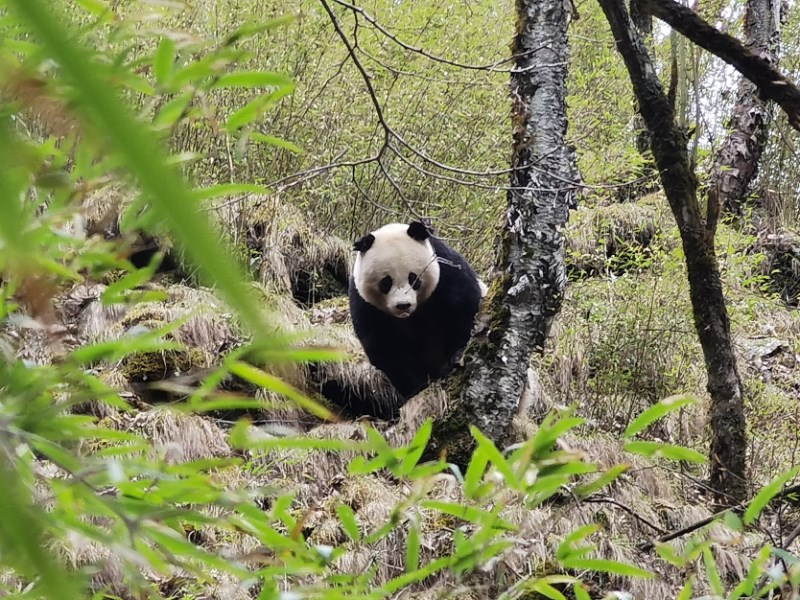panda: (329, 200, 478, 392)
